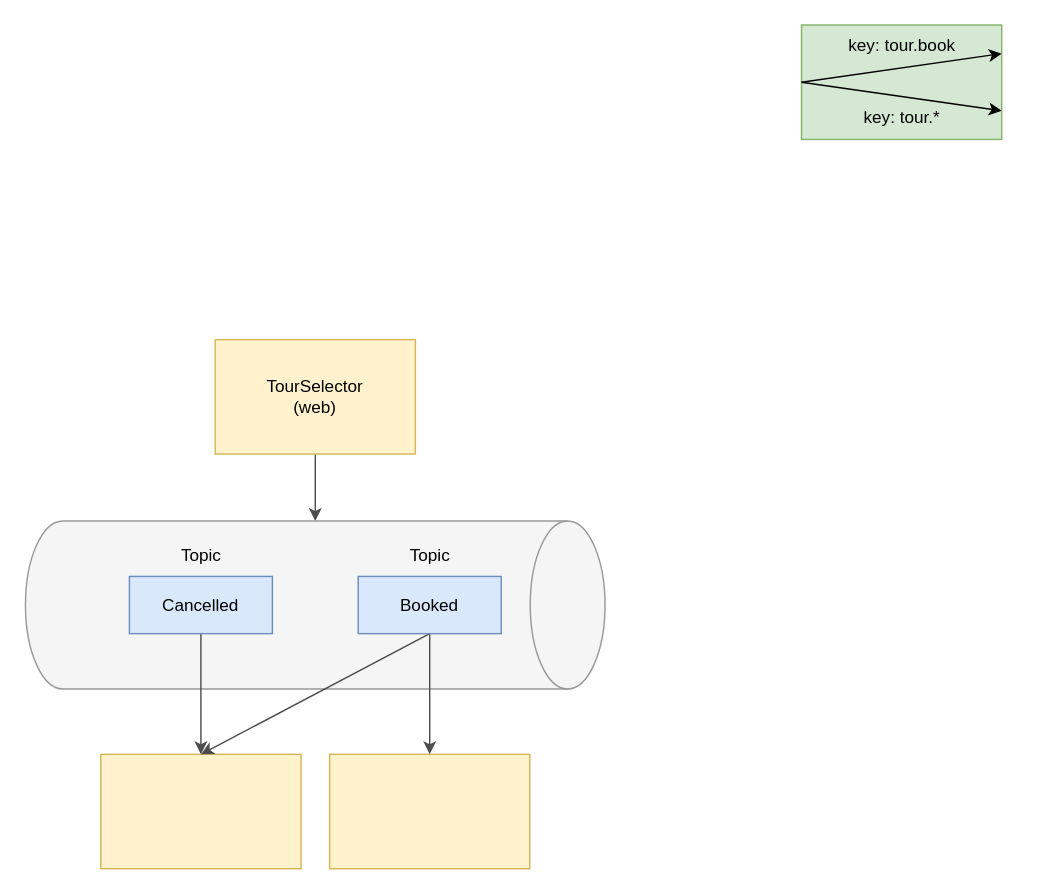
Some shapes in this 1038 by 894 pixel diagram are drawn without their labels. Here are the shapes that lost their labels. From the top down, the centre of each, then its label:
(x=200, y=811): TourSelector.Backend
(x=429, y=811): EmailService
